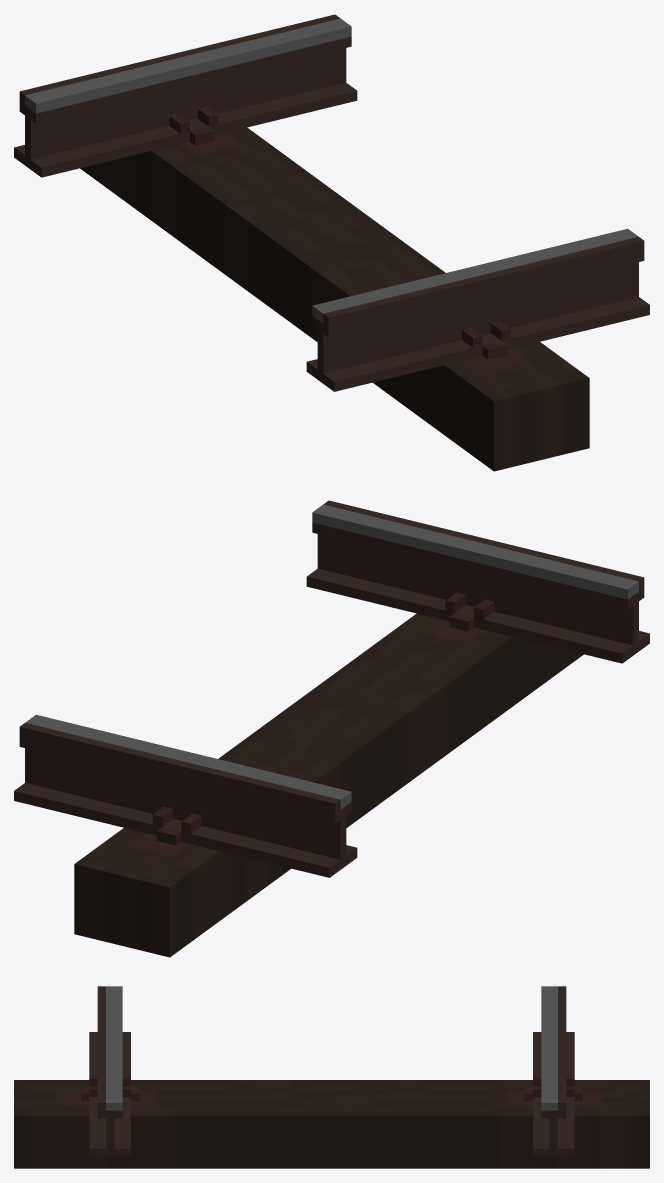
File: schiene_holz.obj
3 renders of one model, top to bottom at view 1: azimuth 30°, elevation 25°; view 2: azimuth 150°, elevation 25°; view 3: azimuth 270°, elevation 25°, orthographic. The views are drawn at different scales.
Parts seen in each view (by area): view 1: RAIL_BASE_1, RAIL_LEFT, RAIL_RIGHT, RAIL_BASE; view 2: RAIL_BASE_1, RAIL_LEFT, RAIL_RIGHT, RAIL_BASE; view 3: RAIL_BASE_1, RAIL_LEFT, RAIL_RIGHT, RAIL_BASE.
Part boxes in pixels (x1,y1,x2,y2): RAIL_BASE_1: (80, 127, 589, 471); RAIL_LEFT: (306, 228, 649, 391); RAIL_RIGHT: (14, 14, 357, 177); RAIL_BASE: (169, 106, 511, 359); RAIL_BASE_1: (74, 613, 583, 957); RAIL_LEFT: (306, 500, 649, 663); RAIL_RIGHT: (14, 714, 357, 877); RAIL_BASE: (152, 592, 494, 845); RAIL_BASE_1: (14, 1080, 649, 1168); RAIL_LEFT: (89, 986, 130, 1156); RAIL_RIGHT: (533, 986, 574, 1156); RAIL_BASE: (81, 1075, 582, 1101).
Bounding box in the file's own units: 1.03 × 0.4375 × 2.38.
Materials: 2 (2 with a texture image).
